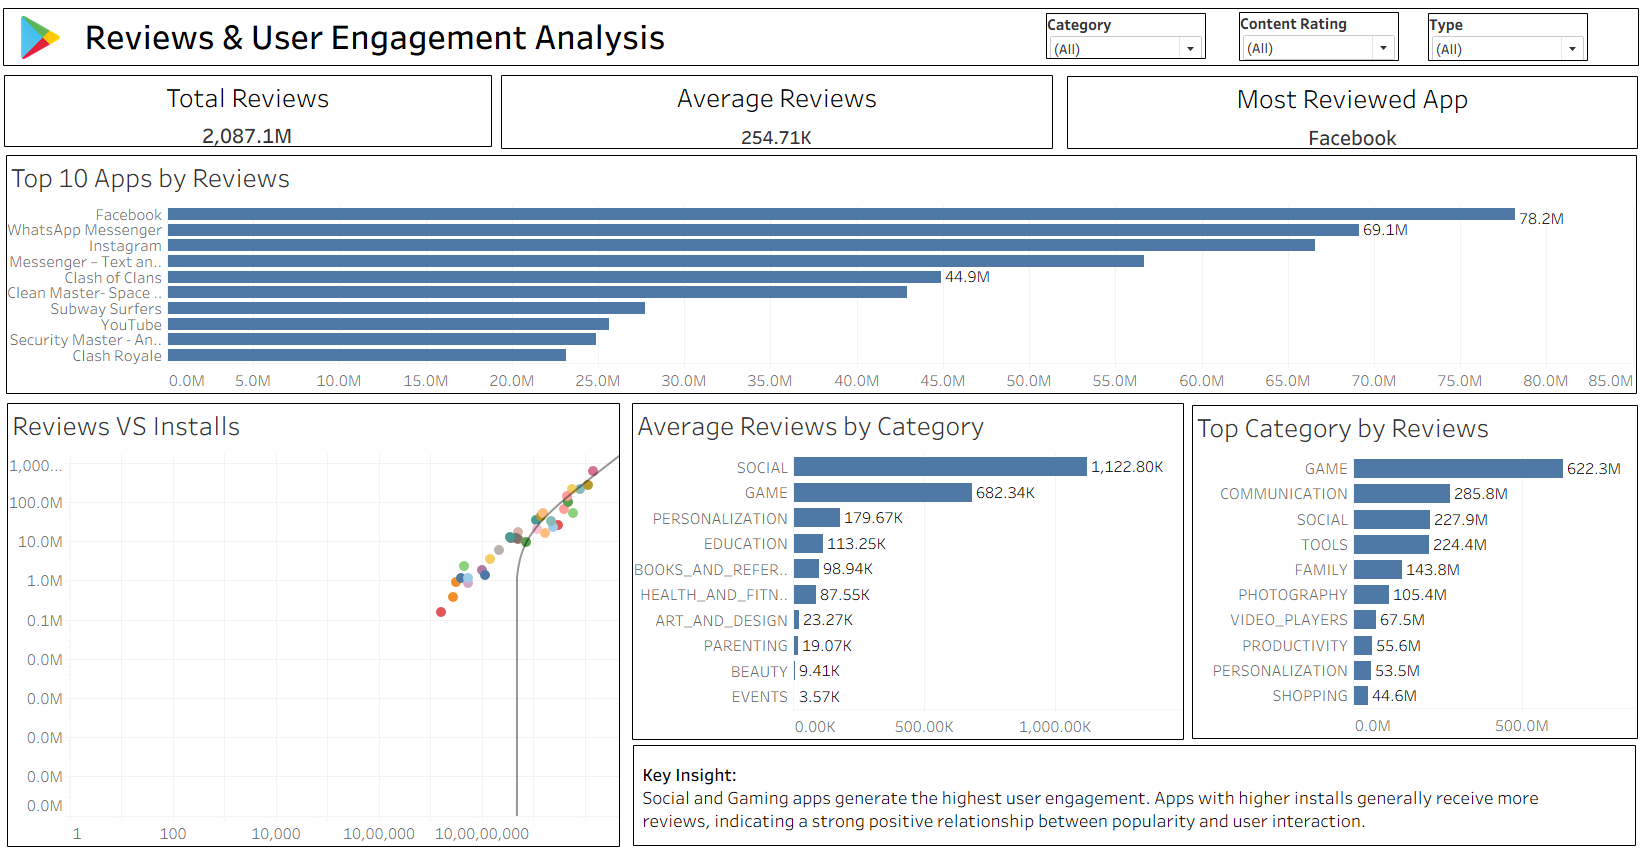

What the dashboard file says about the page in this screenshot:
{"tool":"tableau","page":{"name":"Reviews & User Engagement Analysis","canvas":[1000,1000],"units":"permille","ordinal":4},"visuals":[{"type":"text","box":[53.7,20.9,424.3,55.8]},{"type":"filter","title":"KPI Total Reviews","param":"[federated.0rvsowf13khu5d18i3vno1nwu3qx].[none:Content Rating:nk]","box":[752.6,22.1,96.6,56.9]},{"type":"image","param":"C:/Users/DELL/Downloads/google-play-logo-png_seeklogo-318439-removebg-preview.pn","box":[14.5,23.2,41.6,55.8]},{"type":"filter","title":"KPI Total Reviews","param":"[federated.0rvsowf13khu5d18i3vno1nwu3qx].[none:Category:nk]","box":[636.1,23.2,96.6,53.4]},{"type":"filter","title":"KPI Total Reviews","param":"[federated.0rvsowf13khu5d18i3vno1nwu3qx].[none:Type:nk]","box":[866.6,23.2,96.6,55.8]},{"type":"worksheet","title":"KPI Total Reviews","mark":"Automatic","box":[7.2,95.2,294.5,83.6]},{"type":"worksheet","title":"KPI Average Reviews","mark":"Automatic","box":[307.2,95.2,333.1,86]},{"type":"worksheet","title":"Most Reviewed App","mark":"Automatic","box":[648.8,96.4,344.6,84.8]},{"type":"worksheet","title":"Top 10 Apps by Reviews","mark":"Automatic","rows":["App"],"cols":["Calculation_0759814612746241"],"box":[8.4,188.2,984.3,277.6]},{"type":"worksheet","title":"Reviews VS Installs","mark":"Circle","rows":["Calculation_0759814612746241"],"cols":["Installs"],"box":[9.1,476.2,369.9,515.7]},{"type":"worksheet","title":"Average Reviews by Category","mark":"Automatic","rows":["Category"],"cols":["Calculation_0998958023147524"],"box":[386.2,476.2,333.1,391.4]},{"type":"worksheet","title":"Top Category by Reviews","mark":"Automatic","rows":["Category"],"cols":["Calculation_0759814612746241"],"box":[724.2,478.5,269.2,387.9]},{"type":"text","box":[390.5,882.7,581.8,104.5]}]}

Visuals, with their boxes on the dashboard's canvas, which has no fixed pixel size, in thousandths of its width and height (x1, y1, x2, y2). These are canvas units, not pixel positions in the 1643x852 screenshot, which may show the page scaled, cropped or inside an application window:
text: (left=54, top=21, right=478, bottom=77)
"KPI Total Reviews" filter: (left=753, top=22, right=849, bottom=79)
image: (left=14, top=23, right=56, bottom=79)
"KPI Total Reviews" filter: (left=636, top=23, right=733, bottom=77)
"KPI Total Reviews" filter: (left=867, top=23, right=963, bottom=79)
"KPI Total Reviews" worksheet: (left=7, top=95, right=302, bottom=179)
"KPI Average Reviews" worksheet: (left=307, top=95, right=640, bottom=181)
"Most Reviewed App" worksheet: (left=649, top=96, right=993, bottom=181)
"Top 10 Apps by Reviews" worksheet: (left=8, top=188, right=993, bottom=466)
"Reviews VS Installs" worksheet (Circle marks): (left=9, top=476, right=379, bottom=992)
"Average Reviews by Category" worksheet: (left=386, top=476, right=719, bottom=868)
"Top Category by Reviews" worksheet: (left=724, top=478, right=993, bottom=866)
text: (left=390, top=883, right=972, bottom=987)
